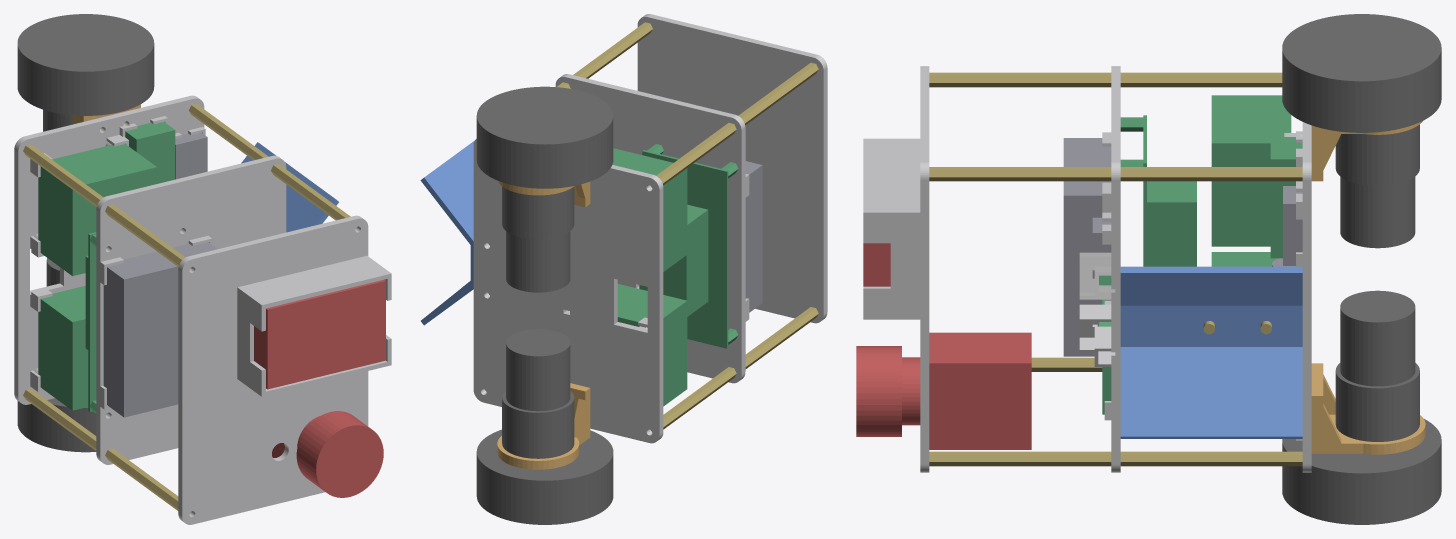
Rendered from montaj.glb.
3 views of the same model, side by side, from view 1: azimuth 30°, elevation 25°; view 2: azimuth 150°, elevation 25°; view 3: azimuth 270°, elevation 25° (orthographic). The views are drawn at different scales.
Visible parts, largest first — view 1: baski_kat3, baski_kat2, teker sol, 3x18650 yuva, baski_kat1, ilac kutusu, BTS7960 sol, acil stop, BTS7960 sag, teker sag, distans -+, distans -- (+6 smaller); view 2: baski_kat1, baski_kat3, baski_kat2, teker sol, teker sag, motor sag, motor sol, ana kart, BTS7960 sag, baski_v_yuva, ESP32 (soketli), BTS7960 sol (+6 smaller); view 3: baski_v_yuva, acil stop, teker sol, baski_kat3, motor sag, teker sag, BTS7960 sol, motor sol, baski_kat2, 3x18650 yuva, distans +-, distans -+ (+10 smaller).
Boxes of the visible parts, box(x1,y1,x2,y2) form: baski_kat3: box(178, 215, 391, 524); baski_kat2: box(96, 155, 286, 464); teker sol: box(17, 14, 154, 115); 3x18650 yuva: box(103, 242, 217, 417); baski_kat1: box(14, 95, 205, 404); ilac kutusu: box(254, 279, 385, 389); BTS7960 sol: box(38, 144, 156, 276); acil stop: box(272, 411, 383, 497); BTS7960 sag: box(38, 286, 88, 410); teker sag: box(17, 398, 96, 452); distans -+: box(23, 144, 190, 268); distans --: box(23, 388, 190, 512); baski_kat1: box(473, 139, 663, 443); baski_kat3: box(637, 14, 827, 323); baski_kat2: box(555, 74, 749, 383); teker sol: box(476, 86, 613, 188); teker sag: box(476, 429, 613, 524); motor sag: box(502, 329, 574, 458); motor sol: box(502, 186, 574, 292); ana kart: box(642, 150, 728, 348); BTS7960 sag: box(617, 284, 687, 406); baski_v_yuva: box(420, 140, 489, 325); ESP32 (soketli): box(639, 204, 708, 316); BTS7960 sol: box(612, 148, 687, 271); baski_v_yuva: box(1120, 266, 1302, 438); acil stop: box(856, 332, 1031, 449); teker sol: box(1282, 14, 1441, 132); baski_kat3: box(863, 66, 929, 472); motor sag: box(1335, 290, 1419, 441); teker sag: box(1282, 419, 1441, 524); BTS7960 sol: box(1211, 95, 1291, 246); motor sol: box(1335, 124, 1419, 248); baski_kat2: box(1079, 66, 1120, 472); 3x18650 yuva: box(1063, 138, 1111, 356); distans +-: box(929, 451, 1302, 466); distans -+: box(929, 72, 1282, 87).
Size of the model in its own units: 144 by 215 by 257.
